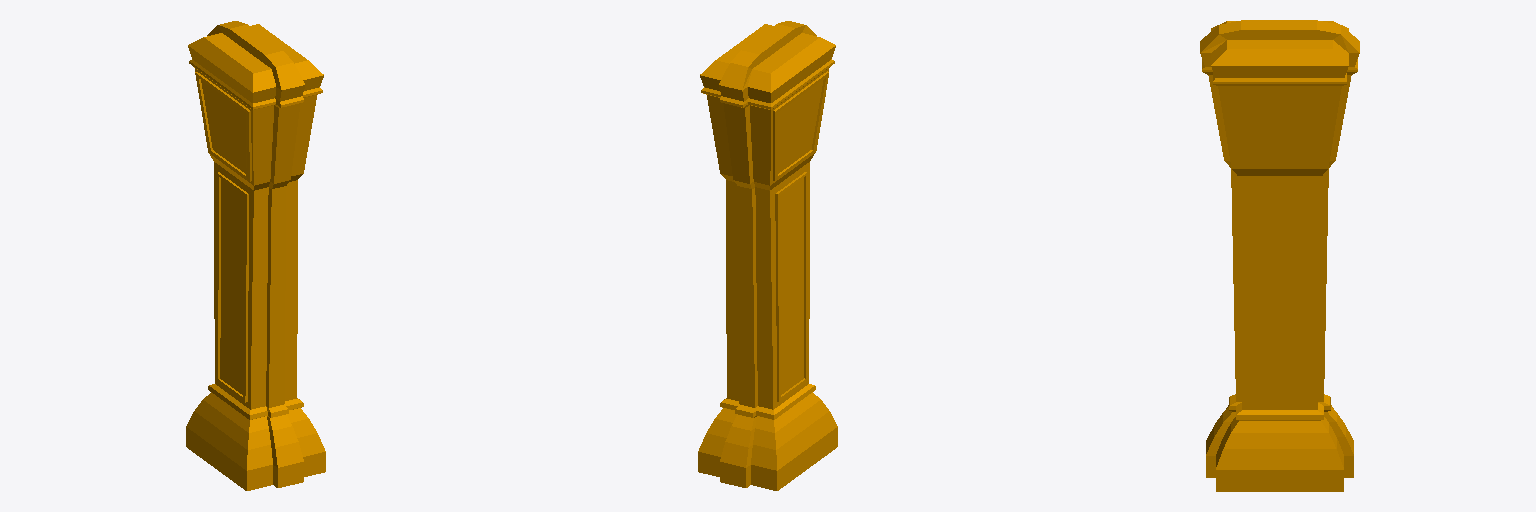
URDF robot description (mesh_object):
<?xml version="1.0" ?>
<robot name="mesh_object">
  <link name="base">
    <visual>
      <geometry>
        <mesh filename="clock_tower_3.obj" scale="1 1 1"/>
      </geometry>
    </visual>
    <collision>
      <geometry>
        <mesh filename="clock_tower_3.obj" scale="1 1 1"/>
      </geometry>
    </collision>
    <inertial>
      <origin xyz="0.001698 0.000101 0.109774" rpy="0 0 0"/>
      <mass value="0.5"/>
      <inertia ixx="0.01" iyy="0.01" izz="0.01" ixy="0" ixz="0" iyz="0"/>
    </inertial>
  </link>
</robot>

--- Facts derived from the render (not from the file) ---
3 views of the same robot in one strip: view 1: azimuth 30°, elevation 25°; view 2: azimuth 150°, elevation 25°; view 3: azimuth 270°, elevation 25° (orthographic).
Robot: mesh_object — 1 links, 0 joints (none); root link base; default pose: every joint at zero.
Visible links, largest first — view 1: base; view 2: base; view 3: base.
Boxes of the visible links, x1,y1,x2,y2 form: base: (186, 21, 325, 490); base: (698, 21, 837, 490); base: (1200, 20, 1359, 491).
Size in the robot's own frame: 0.0433 by 0.0712 by 0.2195 metres.
Meshes: 1 distinct files referenced, 1 mesh visuals loaded (1 OBJ).
